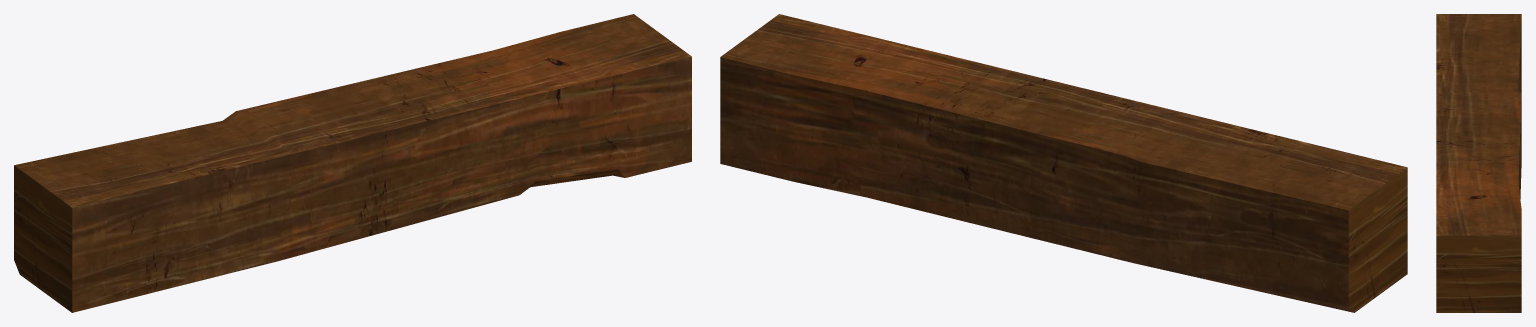
3 views of the same model, side by side, from view 1: azimuth 30°, elevation 25°; view 2: azimuth 150°, elevation 25°; view 3: azimuth 270°, elevation 25° (orthographic). The views are drawn at different scales.
Visible parts, largest first — view 1: SM_BB_T2_Beam_Thick_Large_Horizontal_LOD0; view 2: SM_BB_T2_Beam_Thick_Large_Horizontal_LOD0; view 3: SM_BB_T2_Beam_Thick_Large_Horizontal_LOD0.
Part boxes in pixels (x1,y1,x2,y2): SM_BB_T2_Beam_Thick_Large_Horizontal_LOD0: (14, 14, 691, 312); SM_BB_T2_Beam_Thick_Large_Horizontal_LOD0: (720, 14, 1407, 312); SM_BB_T2_Beam_Thick_Large_Horizontal_LOD0: (1436, 14, 1521, 312).
Bounding box in the file's own units: 3 × 0.4867 × 0.4873.
1 material, 1 textured.
